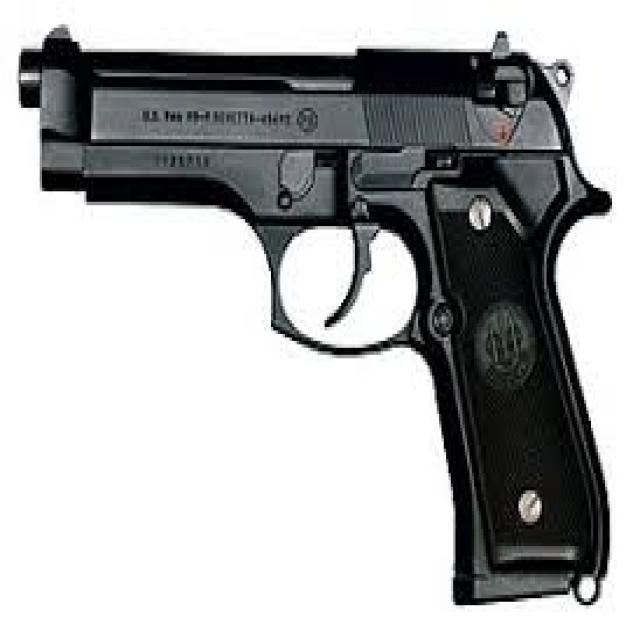pistol: (12, 16, 621, 615)
